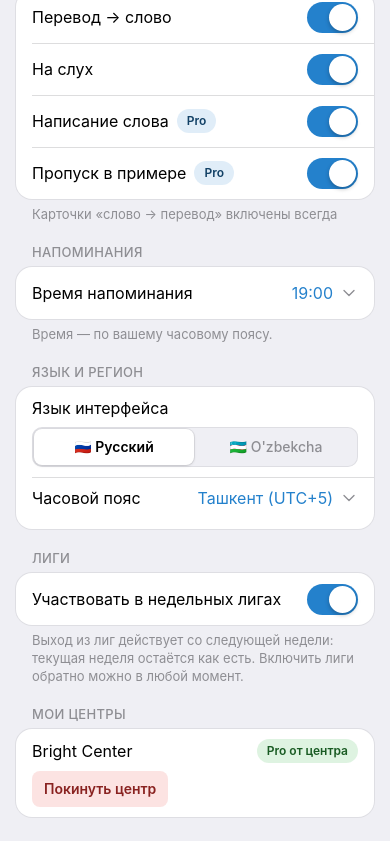
Test: SettingsView › my centers › shows why leaving was refused and takes the list from the server again
The image size is (390, 841).
(page scrolled)
Click the button with test id "org-leave": (100, 789) [32,771,168,807]
(page scrolled)
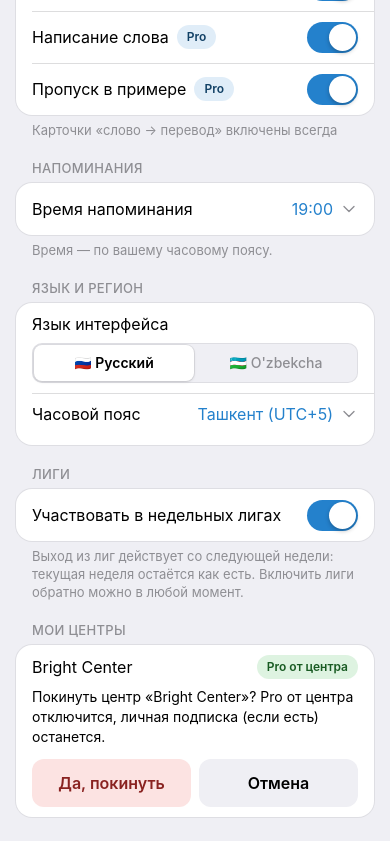
Click the button with test id "org-leave-yes": (112, 783) [32,759,191,807]
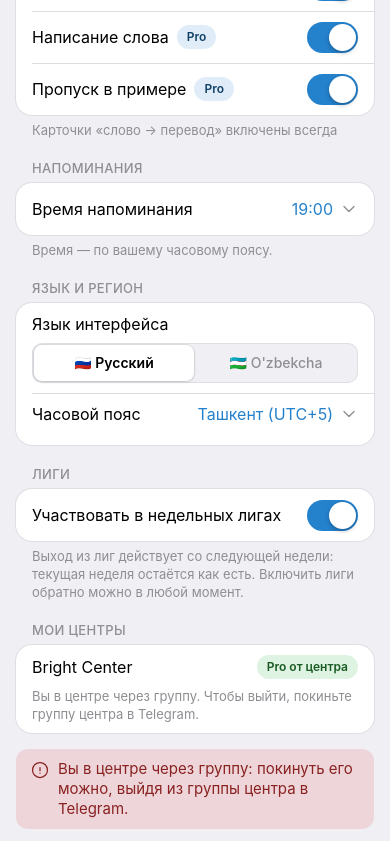
Expected: the message with test id "orgs-error" shows "через группу", [58,759,353,818]
Expected: the icon is shown, [30,760,50,780]
Expected: the text with test id "org-via-group" is shown, [32,687,358,723]
